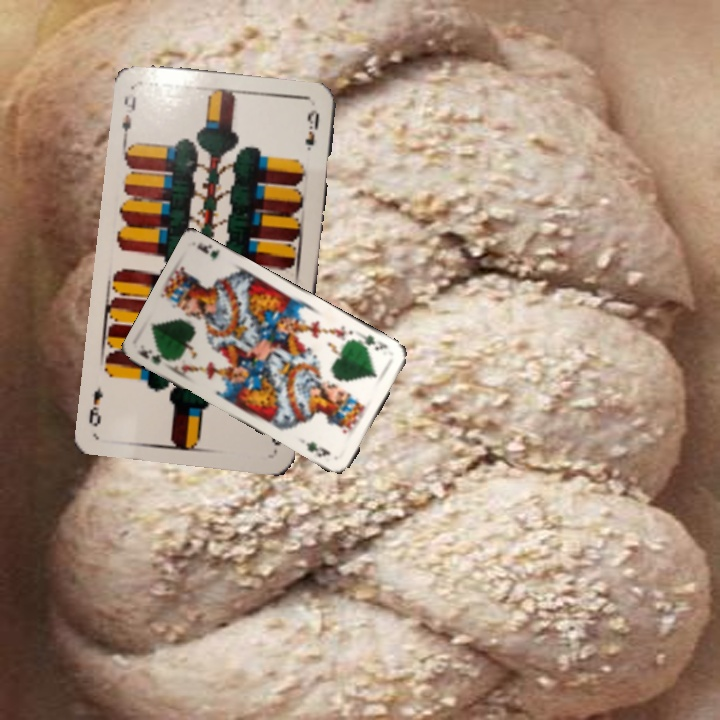E9: (118, 92, 139, 143)
GK: (135, 346, 174, 367), (356, 330, 390, 353)
